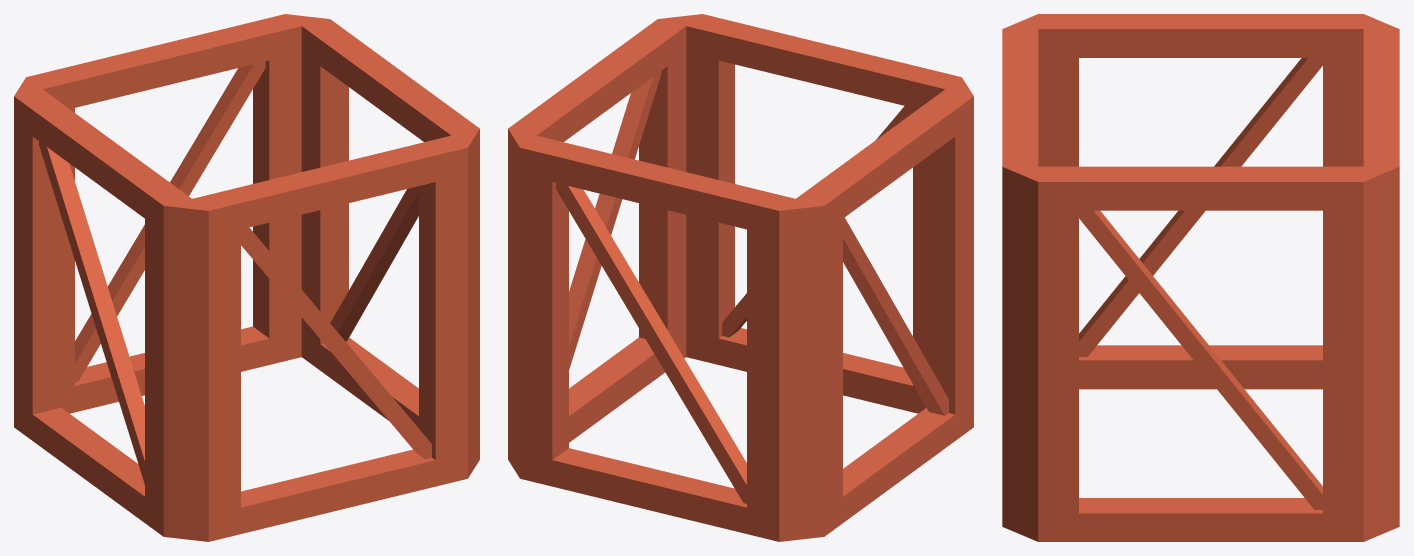
The model's file is metalstructurecross.glb.
3 views of the same model, side by side, from view 1: azimuth 30°, elevation 25°; view 2: azimuth 150°, elevation 25°; view 3: azimuth 270°, elevation 25° (orthographic). The views are drawn at different scales.
Parts seen in each view (by area): view 1: metalStructureCross; view 2: metalStructureCross; view 3: metalStructureCross.
Boxes of the visible parts, x1=… form: metalStructureCross: x1=14, y1=14, x2=479, y2=541; metalStructureCross: x1=508, y1=14, x2=973, y2=541; metalStructureCross: x1=1002, y1=14, x2=1399, y2=541.
Size of the model in its own units: 10 by 10 by 10.
